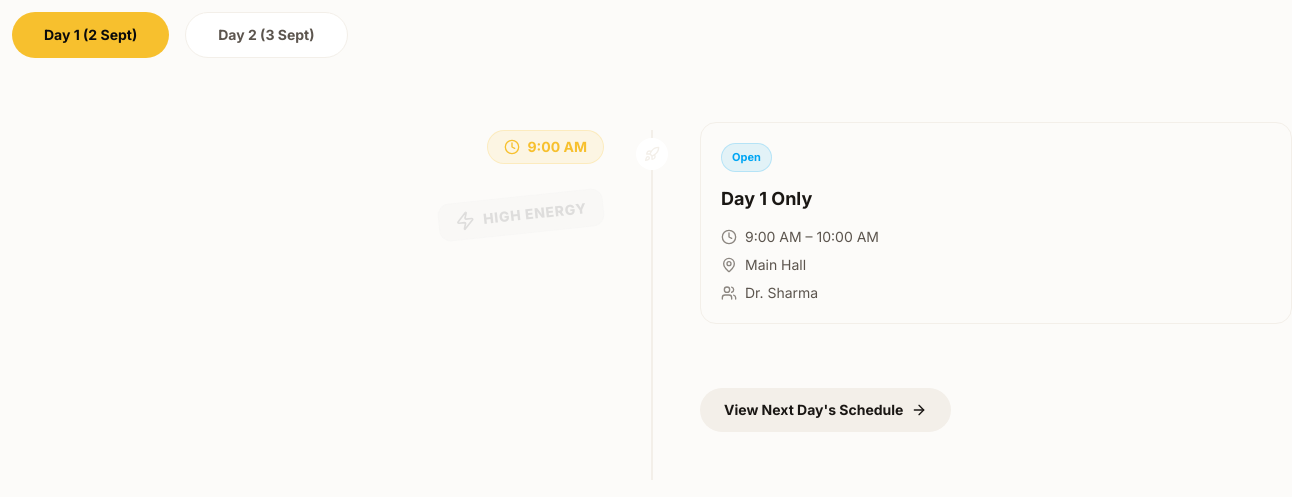
Test: ScheduleExplorer › shows Day 2 events when Day 2 button is clicked
What coordinates should you click on to do the following:
click the button "Day 2 (3 Sept)"
I would click on:
 (266, 35)
Its box is [185,12,348,58].
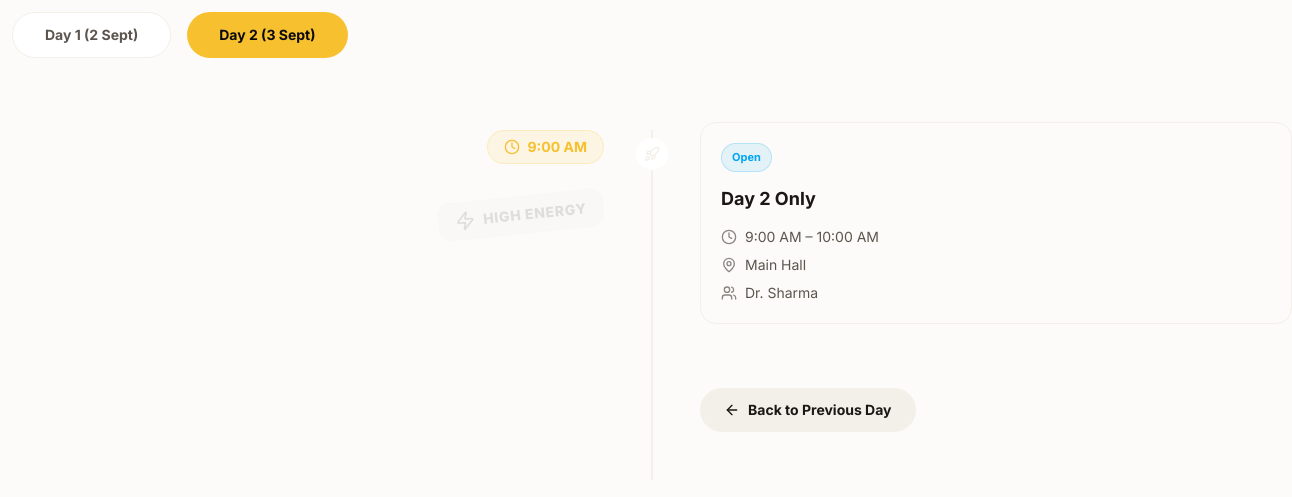
Expected: the heading "Day 2 Only" is shown, [721,188,816,209]
Expected: the heading "Day 1 Only" is gone
